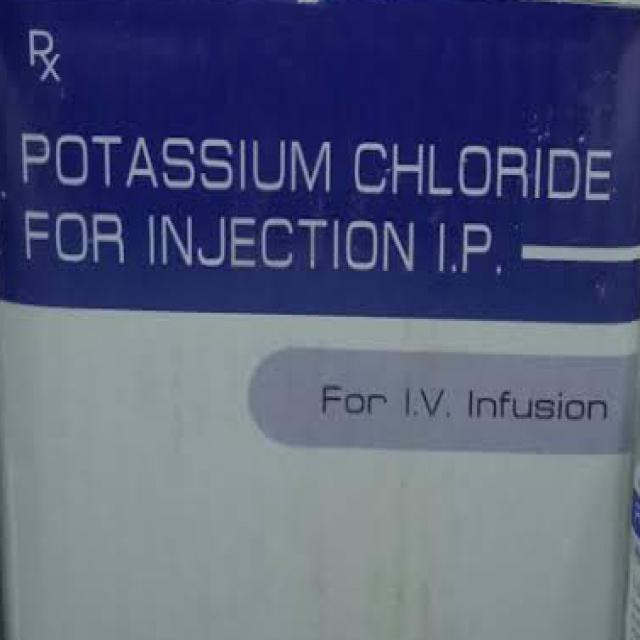drug-name: (15, 118, 612, 212)
